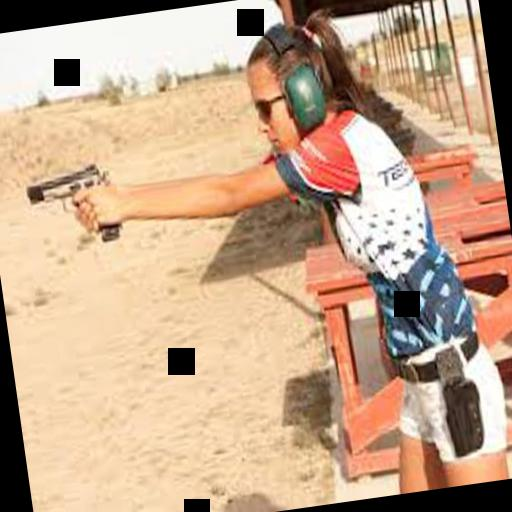Handgun: (18, 146, 126, 248)
